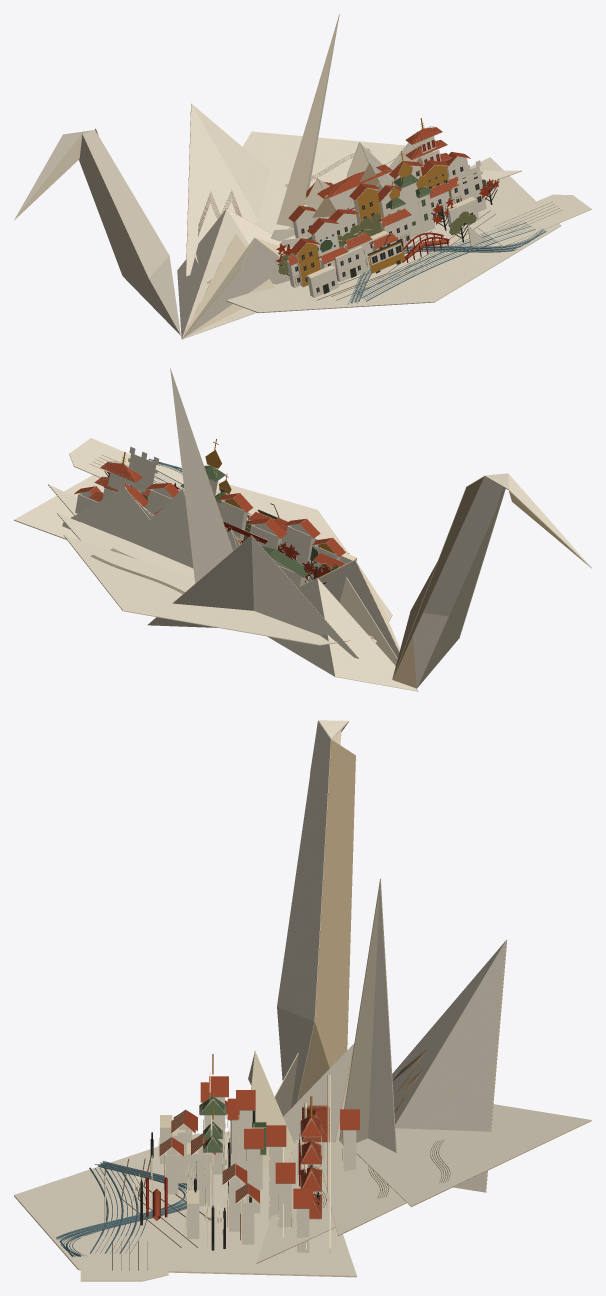
File: fold-master.glb
3 renders of one model, top to bottom at view 1: azimuth 30°, elevation 25°; view 2: azimuth 150°, elevation 25°; view 3: azimuth 270°, elevation 25°, orthographic. The views are drawn at different scales.
Visible parts, largest first — view 1: Wing continuous lower paper, Far wing mountain, Body facing folds, almaty exterior folio, Beak upper face, Beak lower face, Die-cut story leaf, Tail folded return, Body central pleat, Printed river contour.009, Printed river contour, Cathedral central tower (+15 smaller); view 2: almaty exterior folio, Far wing mountain, Body facing folds, Beak upper face, Folded mountain silhouette, Tail long folded sail, Wing continuous lower paper, Beak inner ridge, Beak lower face, lisbon exterior folio, Body central pleat, Die-cut story leaf (+7 smaller); view 3: Wing continuous lower paper, Far wing mountain, Beak inner ridge, almaty exterior folio, Beak upper face, lisbon exterior folio, Tail long folded sail, Die-cut story leaf, Tail folded return, Body facing folds, Body central pleat, kyoto exterior folio (+4 smaller).
Part boxes in pixels (box(x1,y1,x2,y2)): Wing continuous lower paper: box(226, 157, 561, 313); Far wing mountain: box(186, 104, 269, 276); Body facing folds: box(177, 209, 289, 339); almaty exterior folio: box(194, 131, 405, 281); Beak upper face: box(14, 130, 180, 334); Beak lower face: box(15, 134, 179, 334); Die-cut story leaf: box(477, 194, 591, 246); Tail folded return: box(277, 15, 339, 228); Body central pleat: box(182, 233, 286, 338); Printed river contour.009: box(354, 221, 535, 301); Printed river contour: box(348, 228, 546, 304); Cathedral central tower: box(390, 183, 435, 237); almaty exterior folio: box(64, 535, 373, 645); Far wing mountain: box(148, 535, 358, 658); Body facing folds: box(268, 560, 417, 691); Beak upper face: box(413, 473, 591, 687); Folded mountain silhouette: box(62, 487, 237, 568); Tail long folded sail: box(170, 369, 232, 583); Wing continuous lower paper: box(14, 464, 392, 642); Beak inner ridge: box(392, 475, 590, 688); Beak lower face: box(417, 487, 505, 687); lisbon exterior folio: box(57, 513, 372, 638); Body central pleat: box(318, 560, 417, 689); Die-cut story leaf: box(69, 438, 183, 490); Wing continuous lower paper: box(14, 1131, 356, 1277); Far wing mountain: box(392, 940, 507, 1192); Beak inner ridge: box(297, 722, 355, 1101); almaty exterior folio: box(356, 1104, 591, 1206); Beak upper face: box(277, 720, 348, 1108); lisbon exterior folio: box(321, 1140, 406, 1235); Tail long folded sail: box(368, 879, 396, 1152); Die-cut story leaf: box(80, 1236, 168, 1281); Tail folded return: box(339, 880, 380, 1145); Body facing folds: box(253, 1043, 354, 1143); Body central pleat: box(248, 1051, 298, 1168); kyoto exterior folio: box(256, 1139, 335, 1263).
Bounding box in the file's own units: 8.2 × 3.98 × 4.94.
15 materials, 1 textured.
